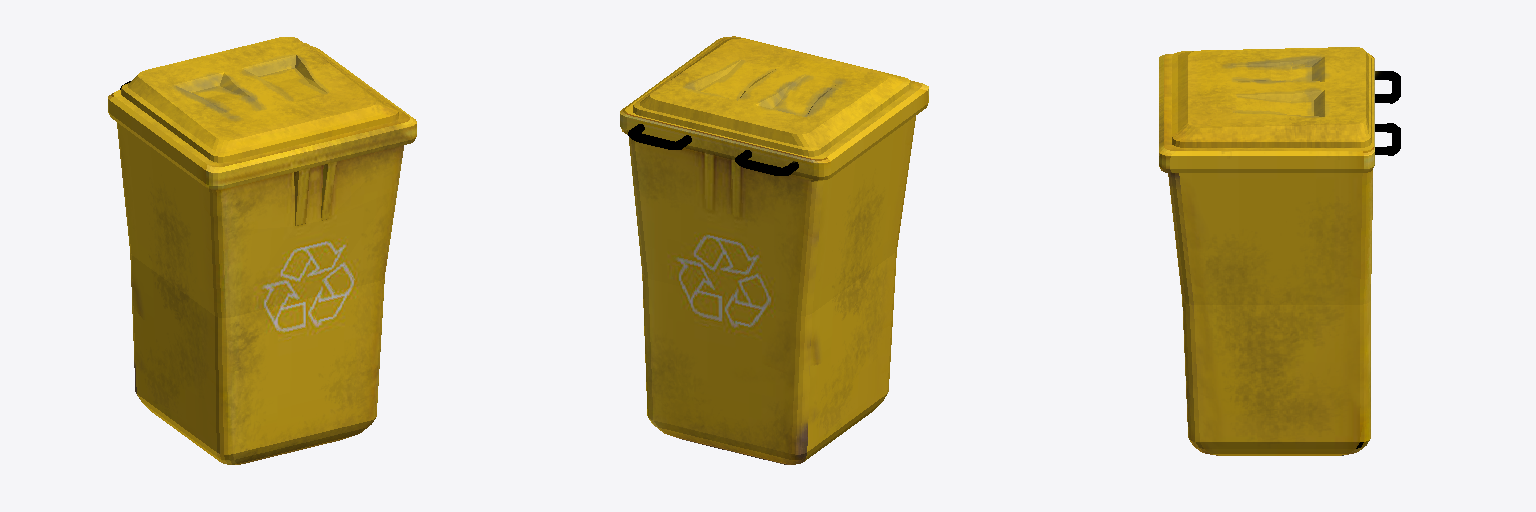
3 views of the same model, side by side, from view 1: azimuth 30°, elevation 25°; view 2: azimuth 150°, elevation 25°; view 3: azimuth 270°, elevation 25° (orthographic).
Visible parts, largest first — view 1: Cubo_Basura_Amarillo; view 2: Cubo_Basura_Amarillo; view 3: Cubo_Basura_Amarillo.
Boxes of the visible parts, box(x1,y1,x2,y2) form: Cubo_Basura_Amarillo: box(108, 37, 416, 464); Cubo_Basura_Amarillo: box(620, 36, 928, 464); Cubo_Basura_Amarillo: box(1159, 47, 1400, 455).
Size of the model in its own units: 0.5292 by 0.8232 by 0.5307.
Materials: 1 (1 with a texture image).